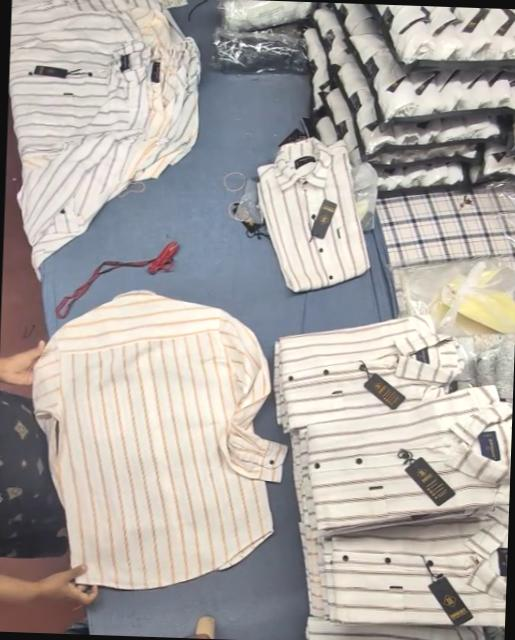new-garment: (32, 291, 284, 589)
